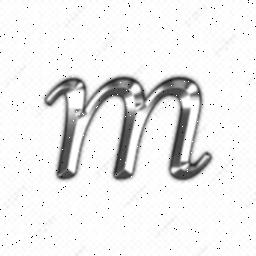m: (35, 48, 245, 216)
